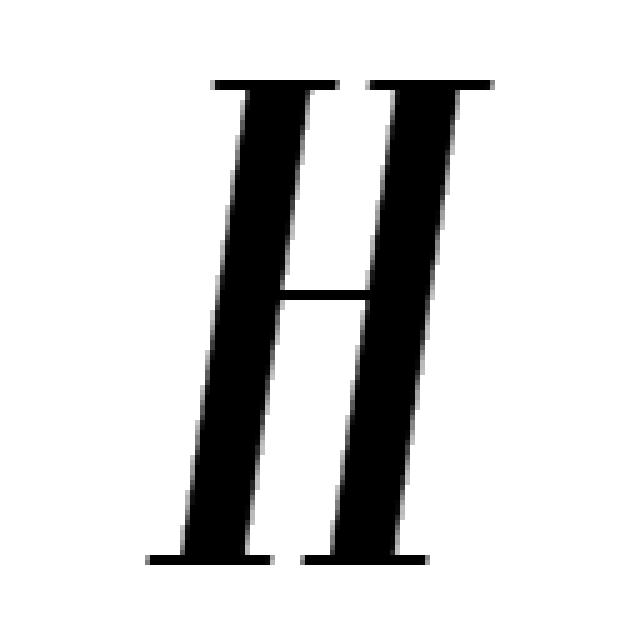H: (145, 80, 495, 570)
